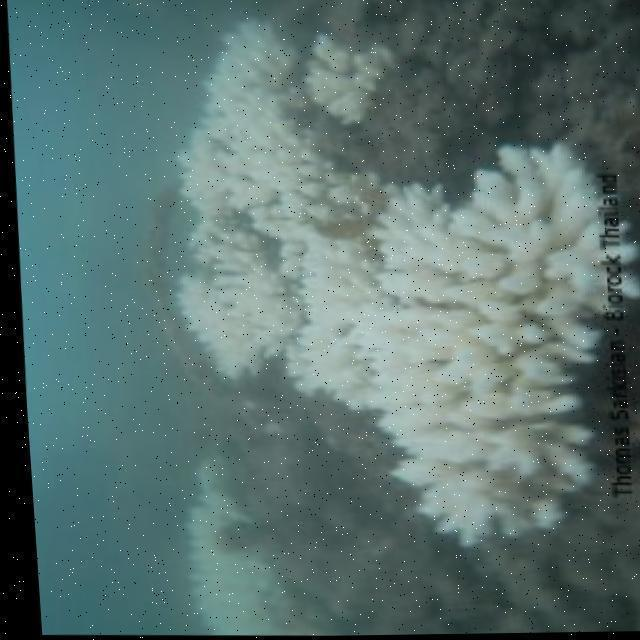Bleached Coral: (373, 121, 640, 560), (151, 11, 393, 406), (151, 456, 291, 638)
